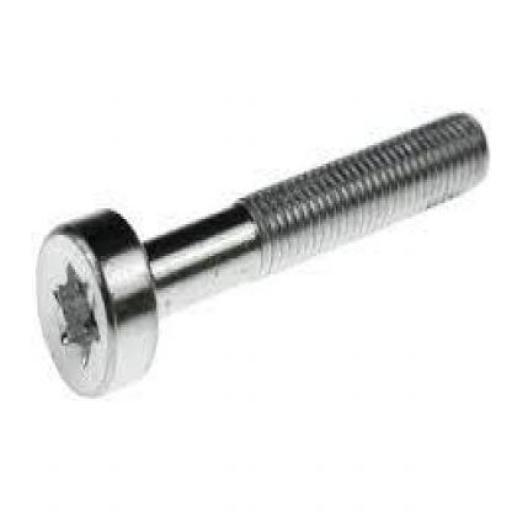Bolt: (34, 110, 492, 399)
